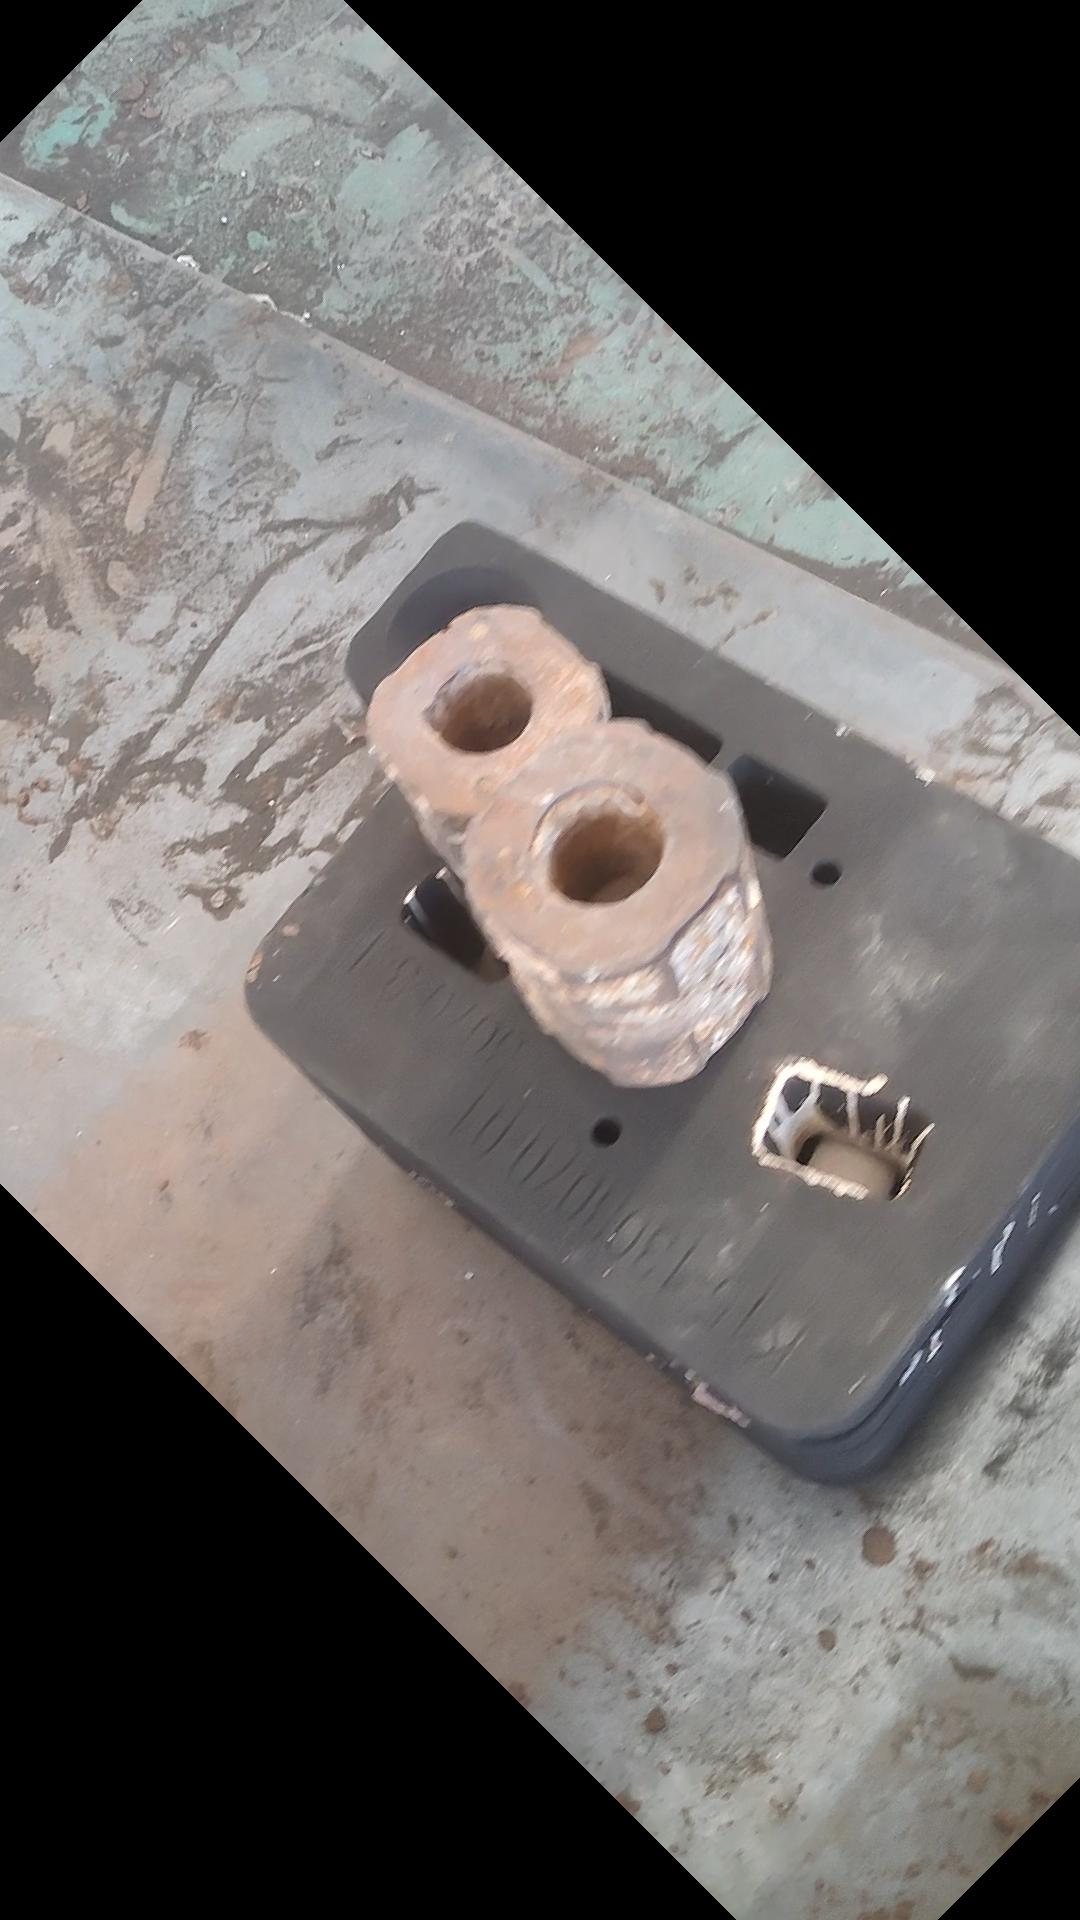pouring hole: (376, 563, 551, 687)
